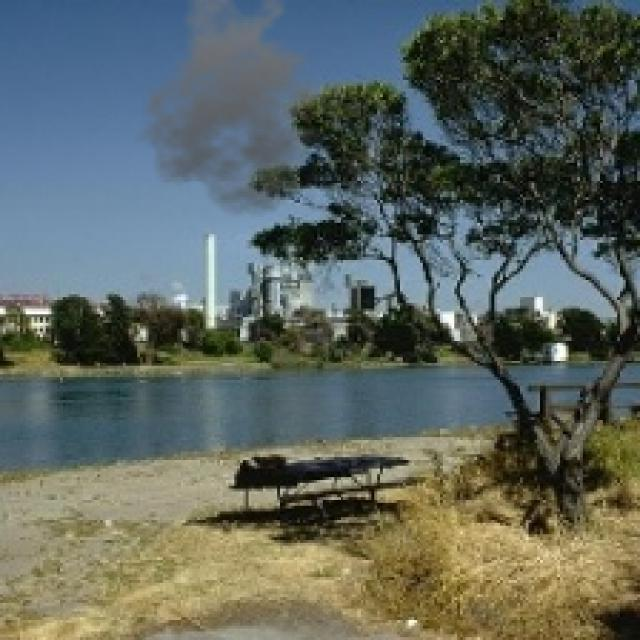Smoke: (134, 0, 343, 217)
